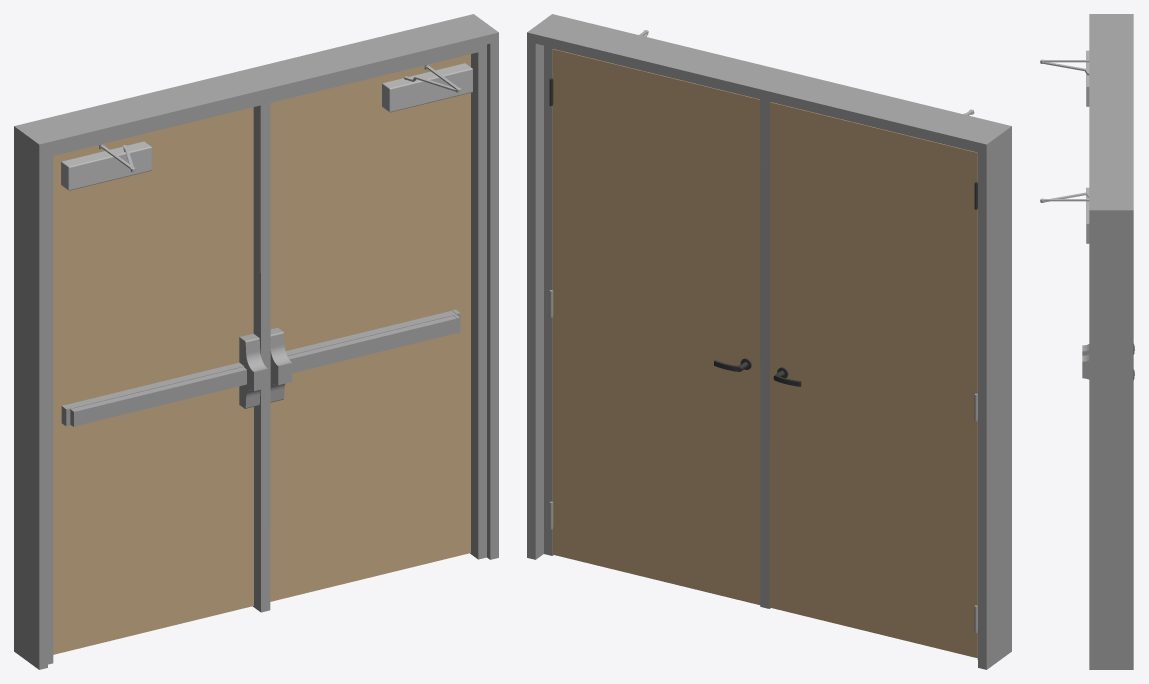
File: solid door2.fbx
3 views of the same model, side by side, from view 1: azimuth 30°, elevation 25°; view 2: azimuth 150°, elevation 25°; view 3: azimuth 270°, elevation 25° (orthographic). The views are drawn at different scales.
Parts seen in each view (by area): view 1: skpuU16AG1; view 2: skpuU16AG1; view 3: skpuU16AG1.
Boxes of the visible parts, left/top/right/bottom form: skpuU16AG1: left=14, top=14, right=498, bottom=669; skpuU16AG1: left=527, top=14, right=1011, bottom=669; skpuU16AG1: left=1040, top=14, right=1134, bottom=669.
Bounding box in the file's own units: 79.72 × 87.06 × 16.16.
